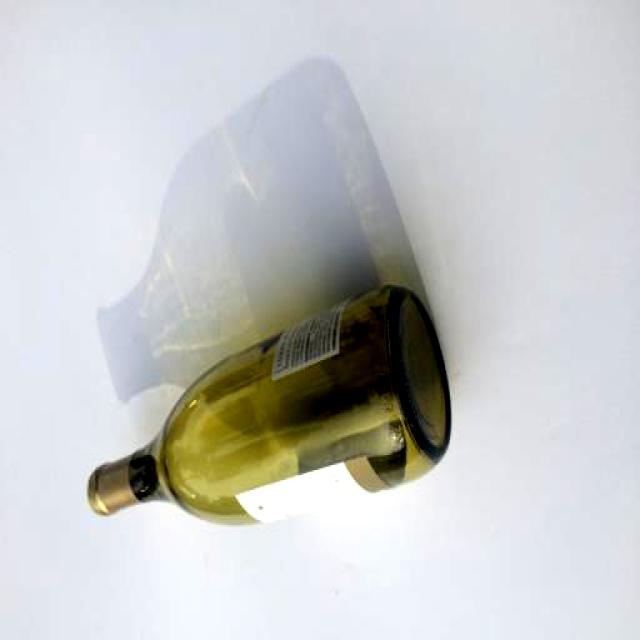Glass: (83, 276, 457, 534)
Metal: (84, 463, 142, 519)
